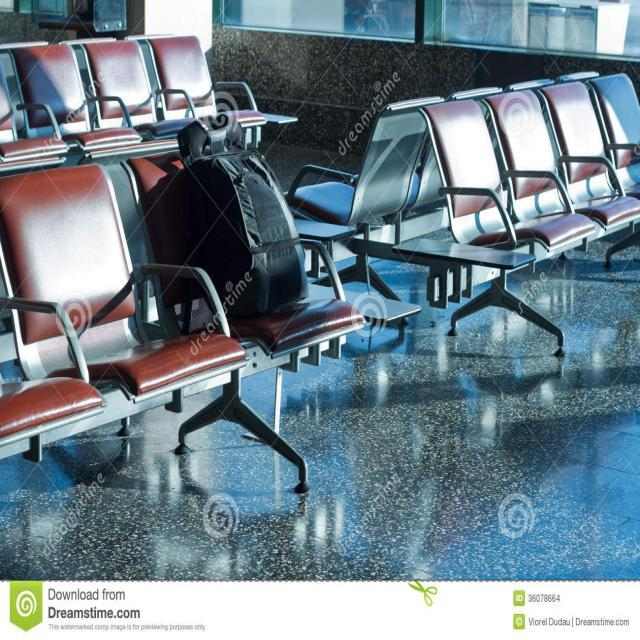Backpacks: (172, 109, 312, 332)
